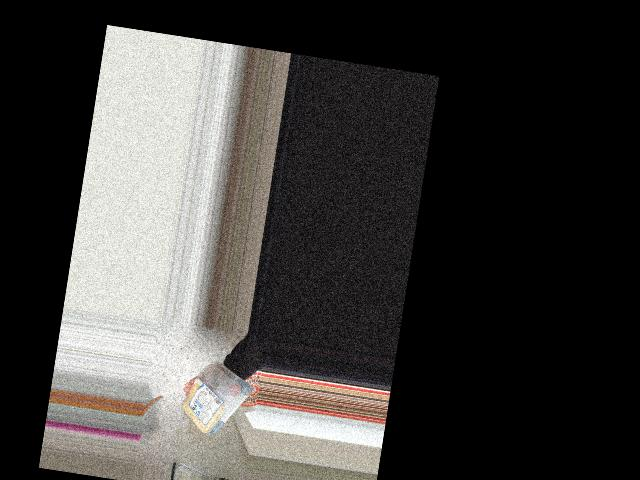cheese: (176, 358, 251, 443)
